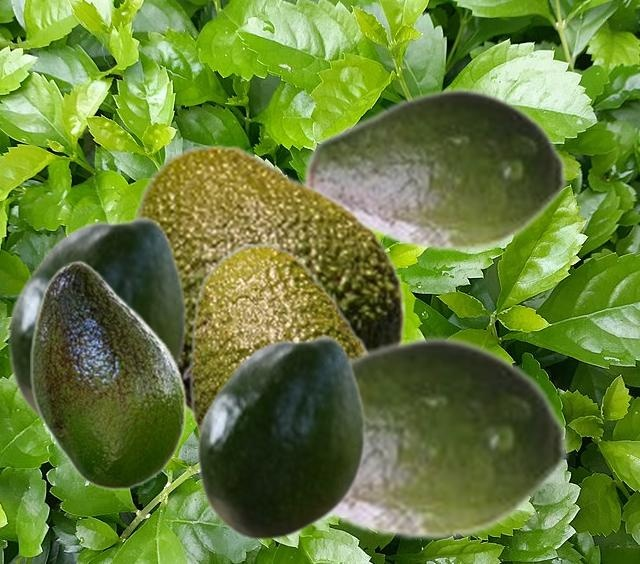avocado: (129, 143, 406, 417), (321, 334, 570, 542), (302, 86, 568, 253), (6, 215, 186, 423), (181, 242, 370, 437), (30, 260, 186, 489), (195, 334, 365, 540)
